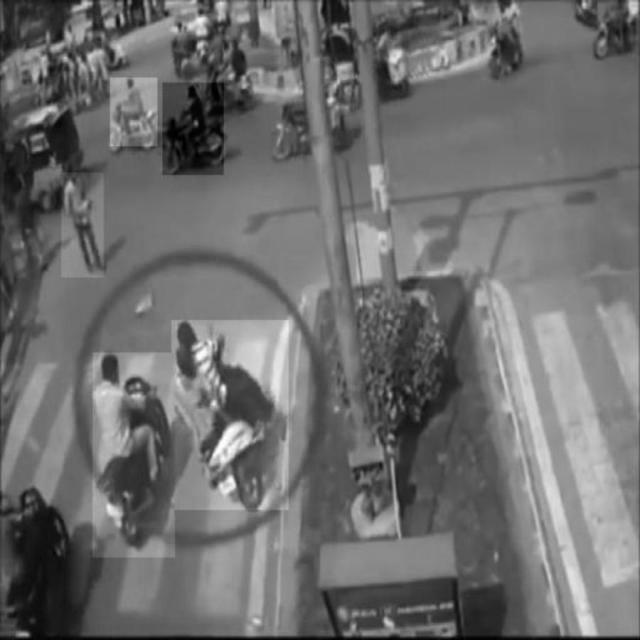person: (62, 172, 104, 278)
vehicle: (172, 320, 290, 510), (93, 353, 175, 558), (163, 82, 224, 174), (110, 77, 157, 145)
